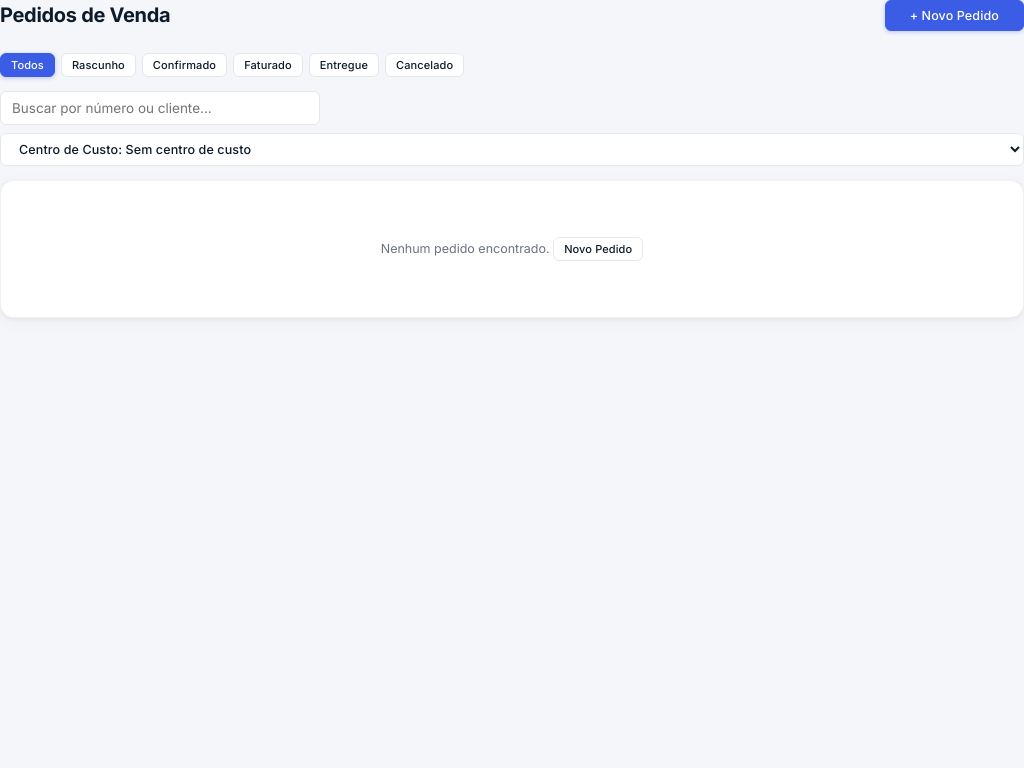
Scenario: OrdersPage — drawer / create form › shows validation error when submitting without a client
The width and height of the screenshot is (1024, 768).
Click the button "+ Novo Pedido": (954, 16) [885,0,1023,31]
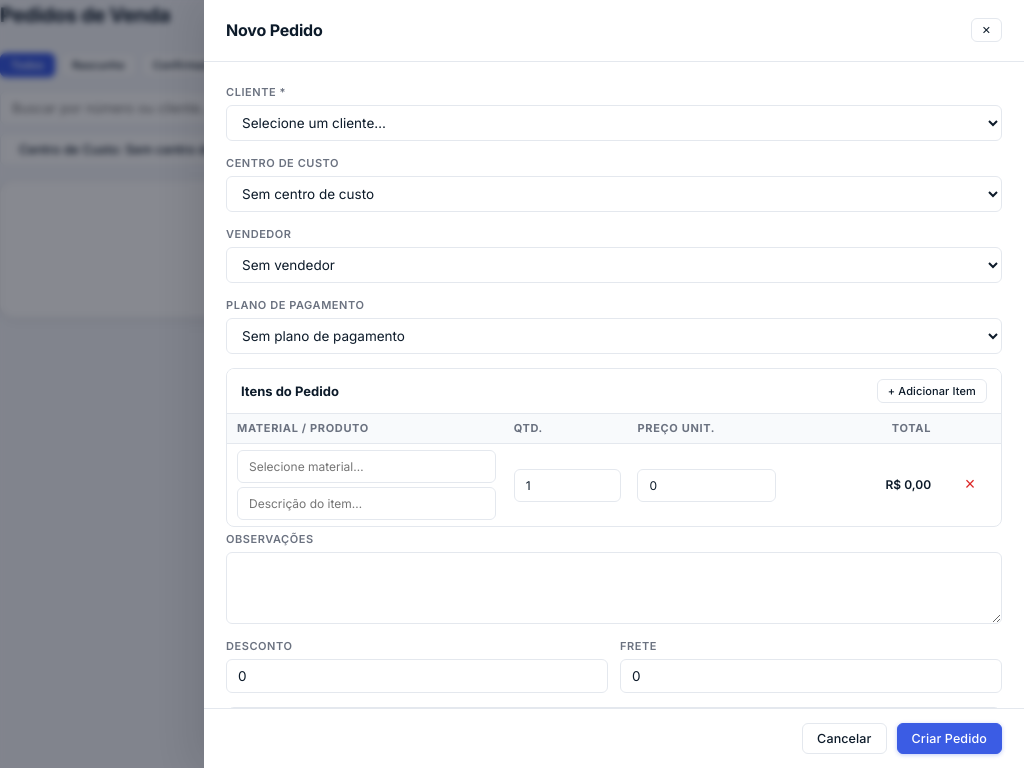
Result: the heading "Novo Pedido" is shown at [226,18,322,43]
Click the button "Criar Pedido": (949, 738) [896,723,1002,754]
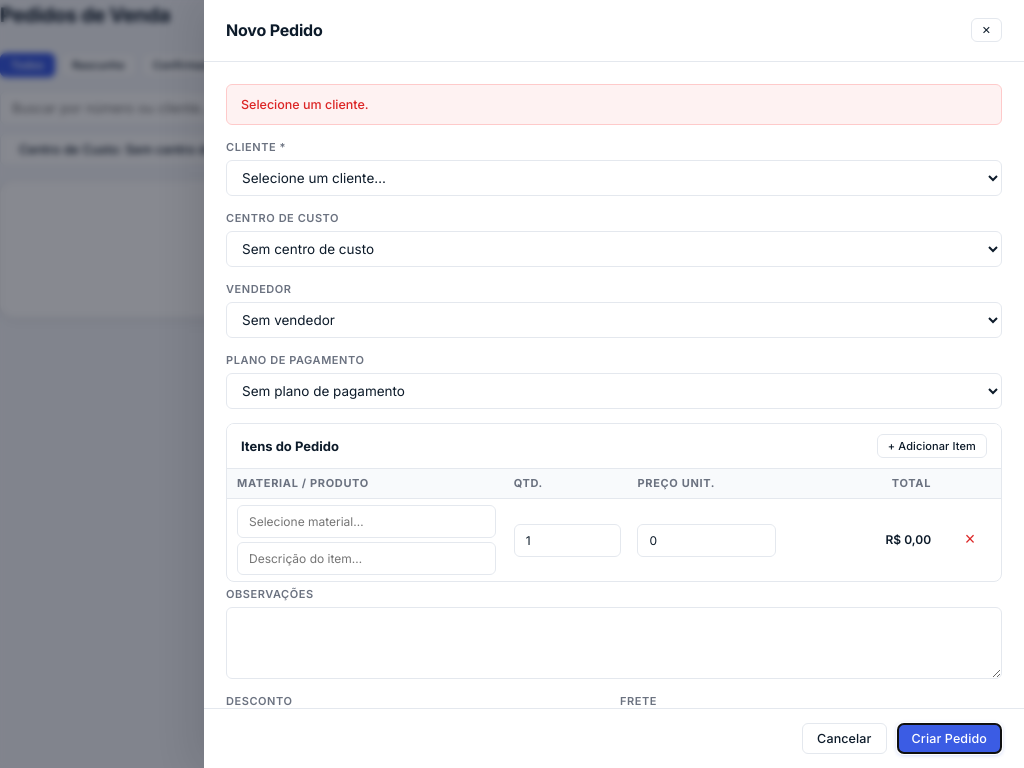
Result: the message reads "Selecione um cliente." at [241,97,369,112]
